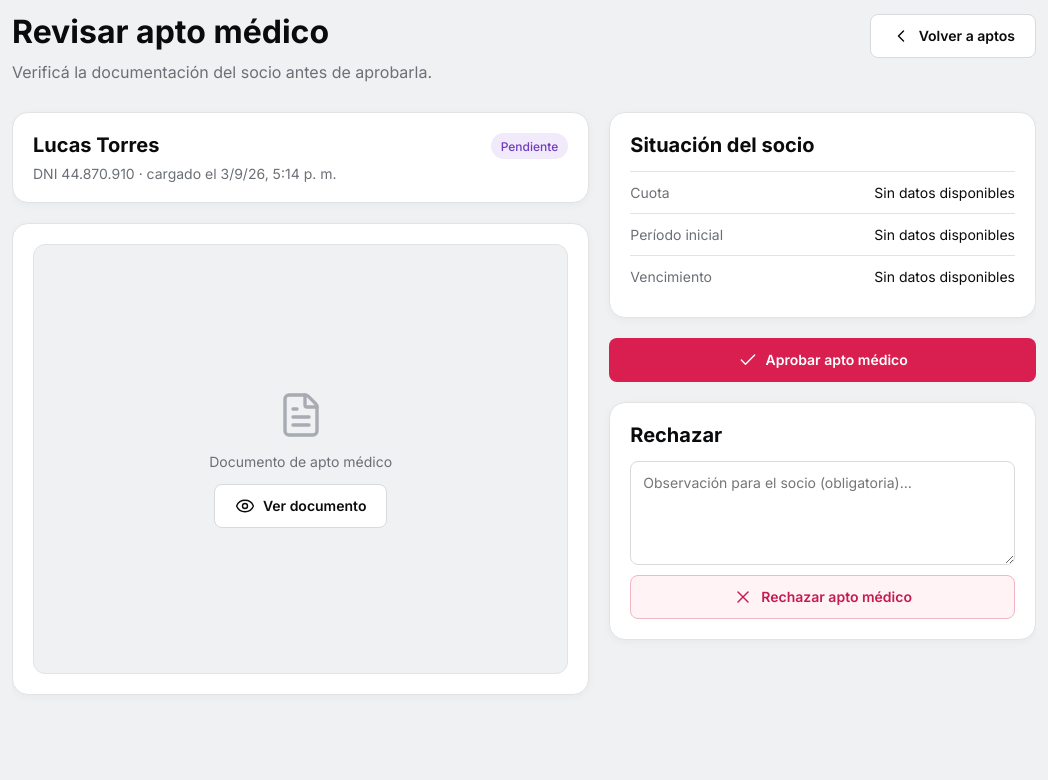
Test: revisión administrativa de aptos médicos › exige una observación no vacía para rechazar
What coordinates should you click on to do the following:
click the button "Rechazar apto médico"
I would click on:
 (823, 597)
Its box is [630, 575, 1015, 619].
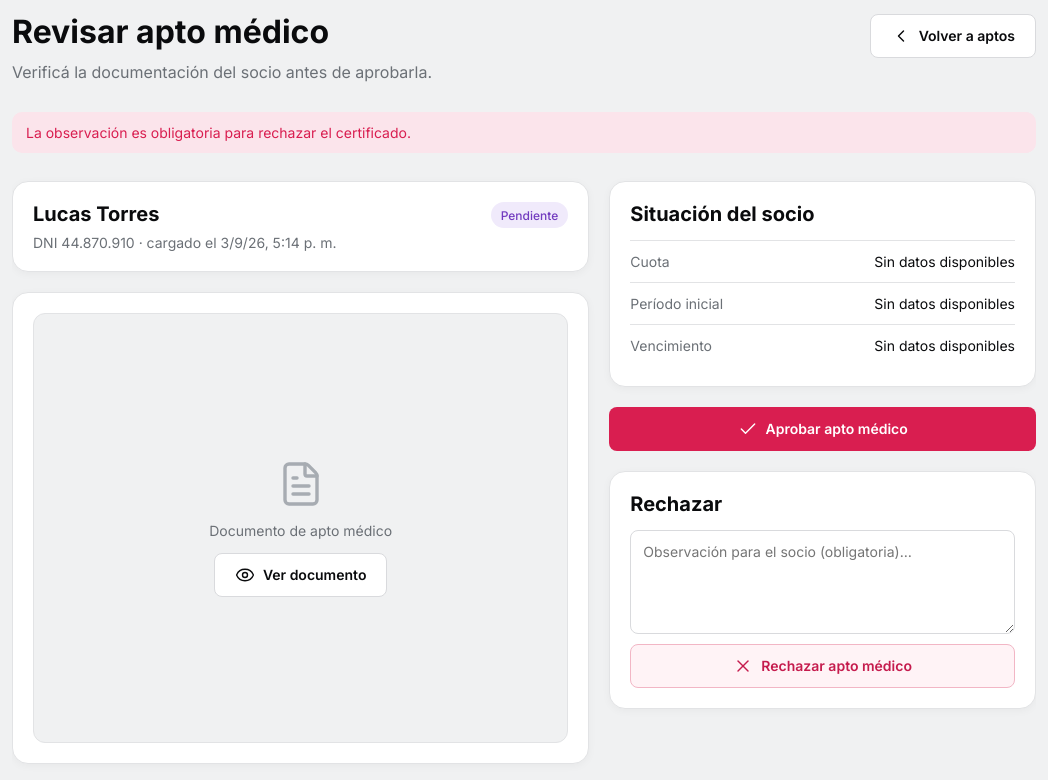
Expected: the message shows "obligatoria", [26, 124, 411, 141]
